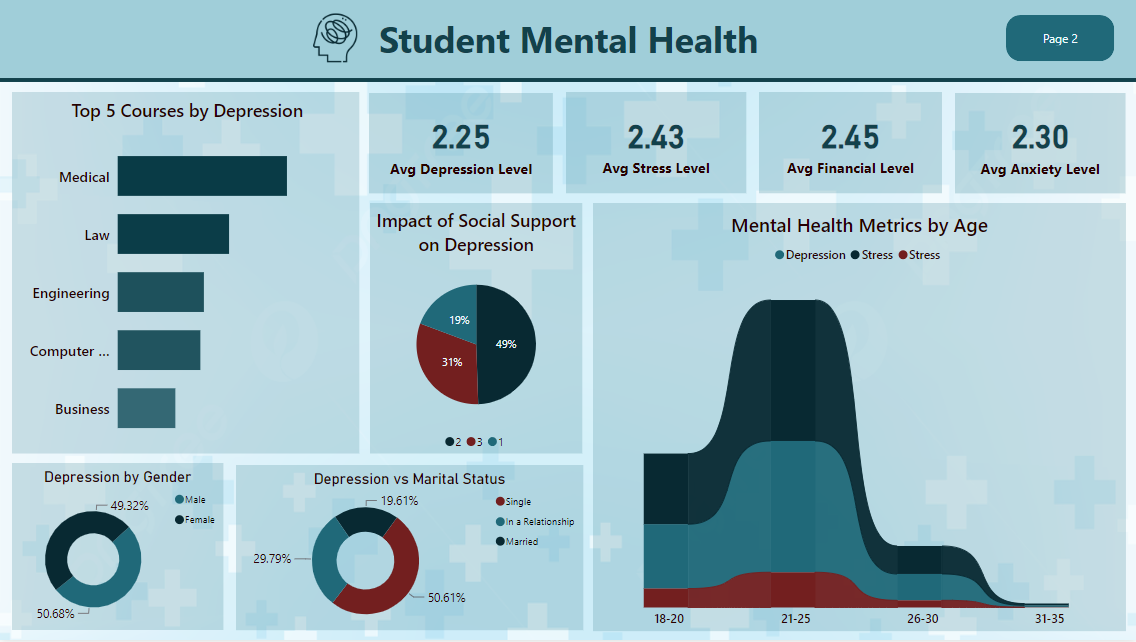

The dashboard page shown, as its layout file describes it:
{"tool":"powerbi","page":{"name":"Page 1","canvas":[1280,720],"ordinal":0},"visuals":[{"type":"shape","box":[0,65.3,1280.2,27],"z":0},{"type":"shape","box":[0,0,1280,87.8],"z":1000},{"type":"card","title":"Academic Performance Index","fields":{"Values":["MeasureTable.Avg Stress Score"]},"box":[637.4,103.7,203,114.2],"z":2000},{"type":"pieChart","title":"Impact of Social Support on Depression","fields":{"Y":["Sum(students_mental_health_survey.CumulativeDepression)"],"Category":["students_mental_health_survey.Social_Support"]},"box":[416.2,228.4,239.2,282.4],"z":3000},{"type":"card","title":"Academic Performance Index","fields":{"Values":["MeasureTable.Mental Health Status"]},"box":[1075.3,104.4,191.8,113.4],"z":4000},{"type":"card","title":"Academic Performance Index","fields":{"Values":["MeasureTable.Avg Financial Level"]},"box":[854.9,103.7,206,114.2],"z":5000},{"type":"card","title":"Avg Depression Score Per Student","fields":{"Values":["MeasureTable.Stress_Level_Rate"]},"box":[415.6,104.4,207.5,113.4],"z":6000},{"type":"donutChart","title":"Depression by Gender","fields":{"Category":["students_mental_health_survey.Gender"],"Y":["Sum(students_mental_health_survey.CumulativeDepression)"]},"box":[13.5,521.6,237.8,187.8],"z":7000},{"type":"donutChart","title":"Depression vs Marital Status","fields":{"Category":["students_mental_health_survey.Relationship_Status"],"Y":["Sum(students_mental_health_survey.CumulativeDepression)"]},"box":[266.2,523,390.5,186.5],"z":8000},{"type":"barChart","title":"Top 5 Courses by Depression","fields":{"Category":["students_mental_health_survey.Course"],"Y":["CountNonNull(students_mental_health_survey.Depression_Score)"]},"box":[13.5,104.1,390.5,406.8],"z":9000},{"type":"ribbonChart","title":"Mental Health Metrics by Age","fields":{"Category":["students_mental_health_survey.AgeBin"],"Y":["Sum(students_mental_health_survey.CumulativeDepression)","Sum(students_mental_health_survey.CumulativeStressLevel)","Sum(students_mental_health_survey.Financial_Stress_Category)"]},"box":[668,228.7,599.9,481.7],"z":10000},{"type":"image","box":[339.3,10.6,75.7,65.1],"z":11000},{"type":"pageNavigator","box":[1132.9,17.1,122.9,52.9],"z":12000}]}

Visuals, with their boxes in screenshot pixels (x1, y1, x2, y2), scaled from the page's 1280x720 canvas onto the 1136x642 screenshot:
shape: 0/58/1135/82
shape: 0/0/1135/78
"Academic Performance Index" card: 566/92/746/194
"Impact of Social Support on Depression" pieChart: 369/204/582/455
"Academic Performance Index" card: 954/93/1125/194
"Academic Performance Index" card: 759/92/942/194
"Avg Depression Score Per Student" card: 369/93/553/194
"Depression by Gender" donutChart: 12/465/223/633
"Depression vs Marital Status" donutChart: 236/466/583/633
"Top 5 Courses by Depression" barChart: 12/93/359/456
"Mental Health Metrics by Age" ribbonChart: 593/204/1125/633
image: 301/9/368/67
pageNavigator: 1005/15/1115/62
